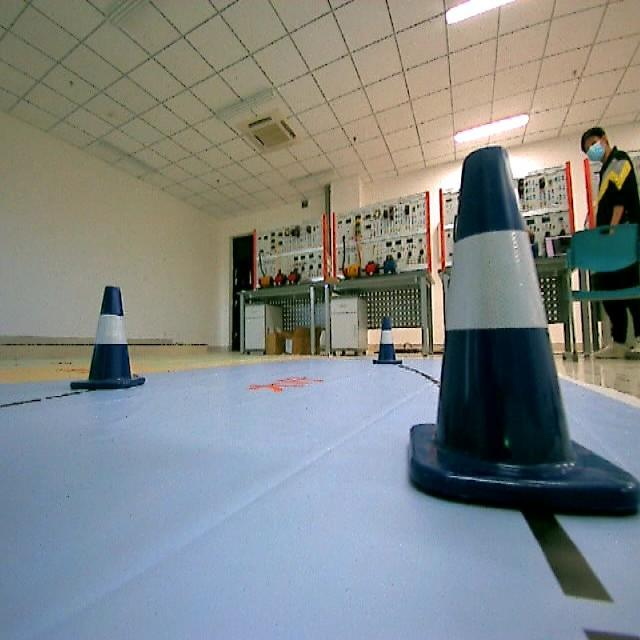obstacle: (396, 141, 640, 543), (59, 284, 158, 404), (366, 312, 404, 375)
